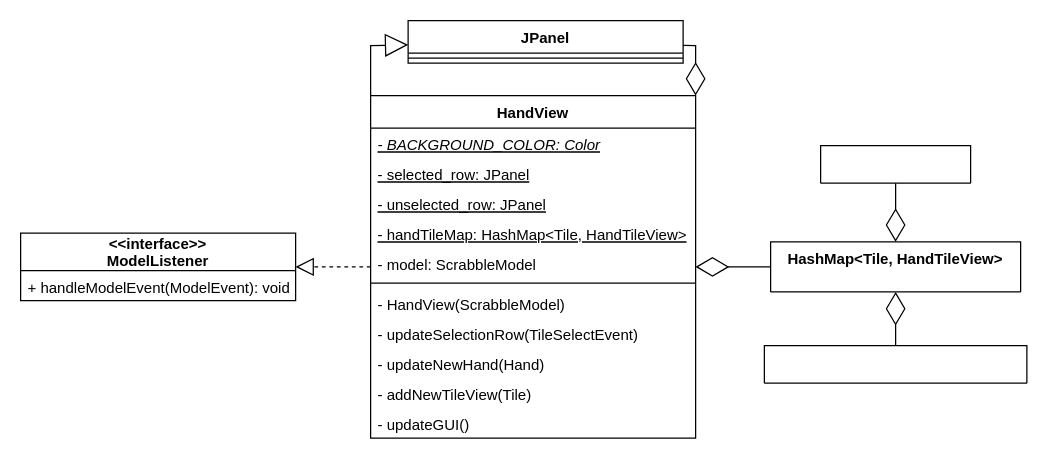
The diagram is 1048 pixels wide and 459 high, and some of its shapes have lost their labels. Here are the shapes that lost their labels. From the top down, the centre of each, then its label:
At pixel 895 163: "Tile".
At pixel 895 363: "HandTileView".
